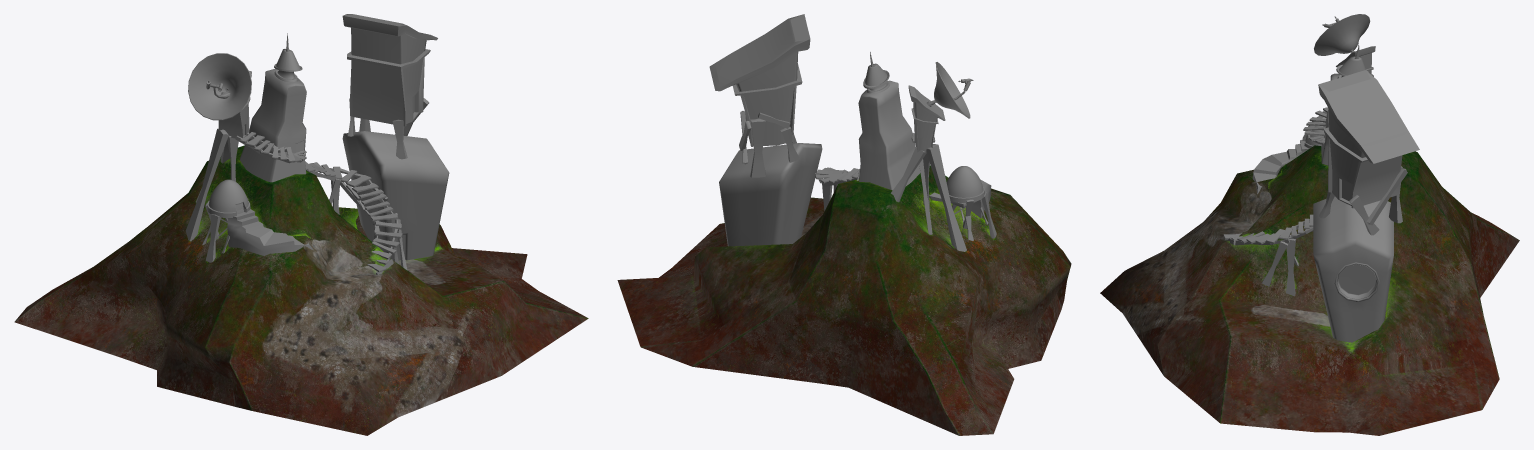
The model's file is Precarious Buildings.obj.
3 views of the same model, side by side, from view 1: azimuth 30°, elevation 25°; view 2: azimuth 150°, elevation 25°; view 3: azimuth 270°, elevation 25° (orthographic). The views are drawn at different scales.
Visible parts, largest first — view 1: Land House, House Houses House2, House Houses House_4, House Main_House_main Main_House Houses, House Satelite_Part_1_Geo Satelite, House Houses EEGoo_House_1 EEGoo_House_3, House Houses EEGoo_House_2 EEGoo_House_1, House Planks Plank_Number_20, House Houses House_3 House_3, House Main_House Houses Main_House_top; view 2: Land House, House Houses House2, House Houses House_4, House Main_House_main Main_House Houses, House Houses House_3 House_3, House Planks Plank_Number_20, House Houses EEGoo_House_2 EEGoo_House_1, House Satelite_Part_1_Geo Satelite, House Planks Plank_template_6, House Main_House Houses Main_House_top, House Planks Plank_Number_18; view 3: Land House, House Houses House2, House Houses House_4, House Satelite_Part_1_Geo Satelite, House Houses EEGoo_House_1 EEGoo_House_3, House Planks Plank_template_9, House Planks Plank_Number_30, House Main_House Houses Main_House_top.
Part boxes in pixels (x1=…): Land House: x1=14, y1=145, x2=588, y2=435; House Houses House2: x1=342, y1=131, x2=449, y2=260; House Houses House_4: x1=342, y1=14, x2=437, y2=126; House Main_House_main Main_House Houses: x1=240, y1=69, x2=306, y2=182; House Satelite_Part_1_Geo Satelite: x1=188, y1=53, x2=251, y2=120; House Houses EEGoo_House_1 EEGoo_House_3: x1=227, y1=209, x2=313, y2=255; House Houses EEGoo_House_2 EEGoo_House_1: x1=207, y1=179, x2=250, y2=217; House Planks Plank_Number_20: x1=185, y1=128, x2=228, y2=241; House Houses House_3 House_3: x1=218, y1=71, x2=251, y2=138; House Main_House Houses Main_House_top: x1=274, y1=33, x2=302, y2=81; Land House: x1=617, y1=165, x2=1071, y2=435; House Houses House2: x1=719, y1=143, x2=822, y2=246; House Houses House_4: x1=709, y1=14, x2=810, y2=146; House Main_House_main Main_House Houses: x1=858, y1=80, x2=920, y2=190; House Houses House_3 House_3: x1=908, y1=85, x2=945, y2=152; House Planks Plank_Number_20: x1=926, y1=144, x2=966, y2=251; House Houses EEGoo_House_2 EEGoo_House_1: x1=946, y1=166, x2=984, y2=202; House Satelite_Part_1_Geo Satelite: x1=934, y1=62, x2=970, y2=118; House Planks Plank_template_6: x1=750, y1=118, x2=765, y2=177; House Main_House Houses Main_House_top: x1=863, y1=52, x2=889, y2=93; House Planks Plank_Number_18: x1=891, y1=147, x2=926, y2=202; Land House: x1=1100, y1=145, x2=1519, y2=435; House Houses House2: x1=1313, y1=196, x2=1393, y2=342; House Houses House_4: x1=1318, y1=70, x2=1419, y2=208; House Satelite_Part_1_Geo Satelite: x1=1314, y1=14, x2=1370, y2=55; House Houses EEGoo_House_1 EEGoo_House_3: x1=1252, y1=139, x2=1309, y2=193; House Planks Plank_template_9: x1=1366, y1=168, x2=1407, y2=225; House Planks Plank_Number_30: x1=1286, y1=238, x2=1295, y2=296; House Main_House Houses Main_House_top: x1=1336, y1=43, x2=1368, y2=78.
Bounding box in the file's own units: 139 × 89.07 × 118.
4 materials, 1 textured.
